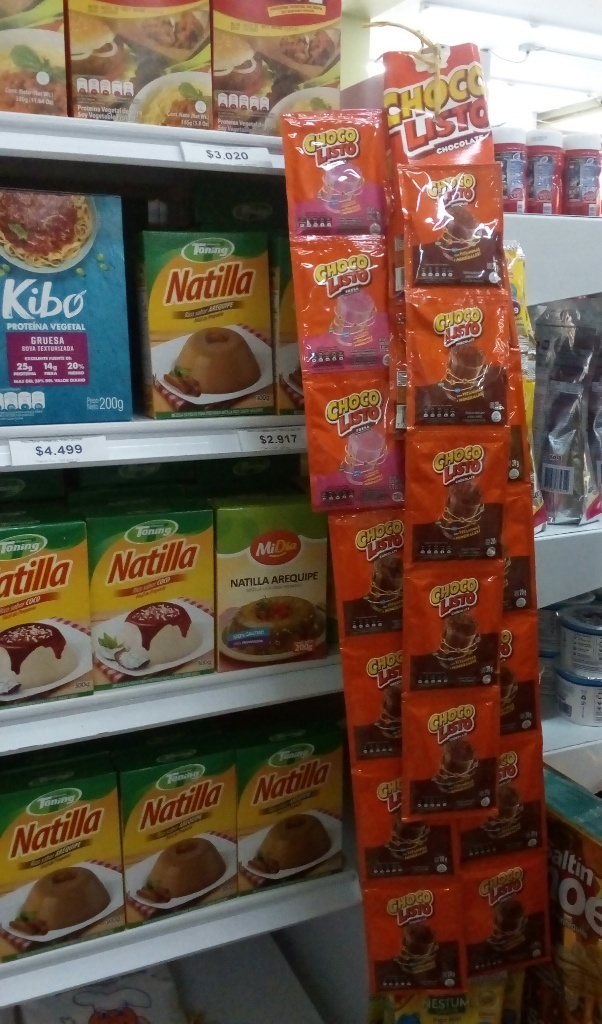COL0170103SOB02000: (394, 158, 514, 289)
